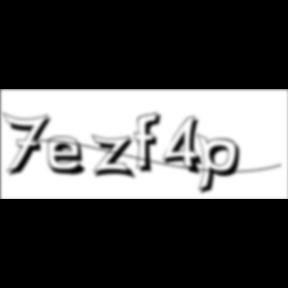4: (162, 115, 210, 179)
7: (3, 111, 58, 179)
e: (47, 135, 93, 178)
f: (134, 111, 168, 175)
p: (197, 132, 247, 198)
z: (92, 134, 140, 182)
